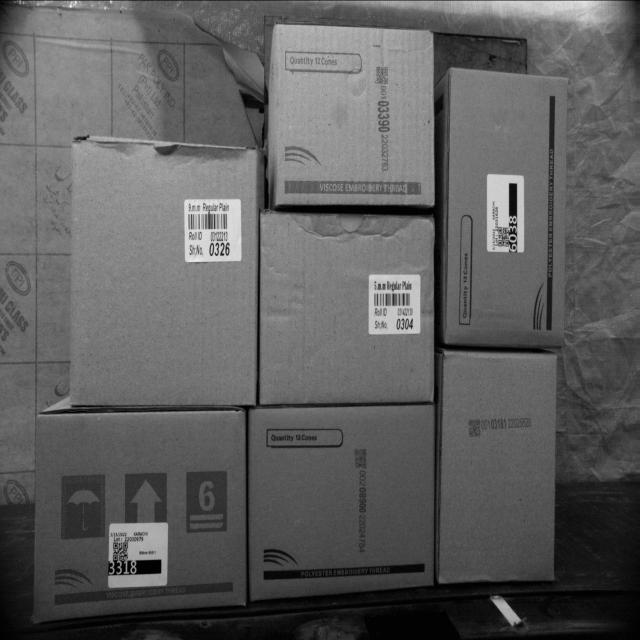cardboxes: (73, 137, 257, 412), (37, 412, 250, 615), (248, 409, 434, 595), (260, 212, 436, 403), (449, 69, 567, 348), (269, 20, 436, 206), (443, 350, 556, 583)
